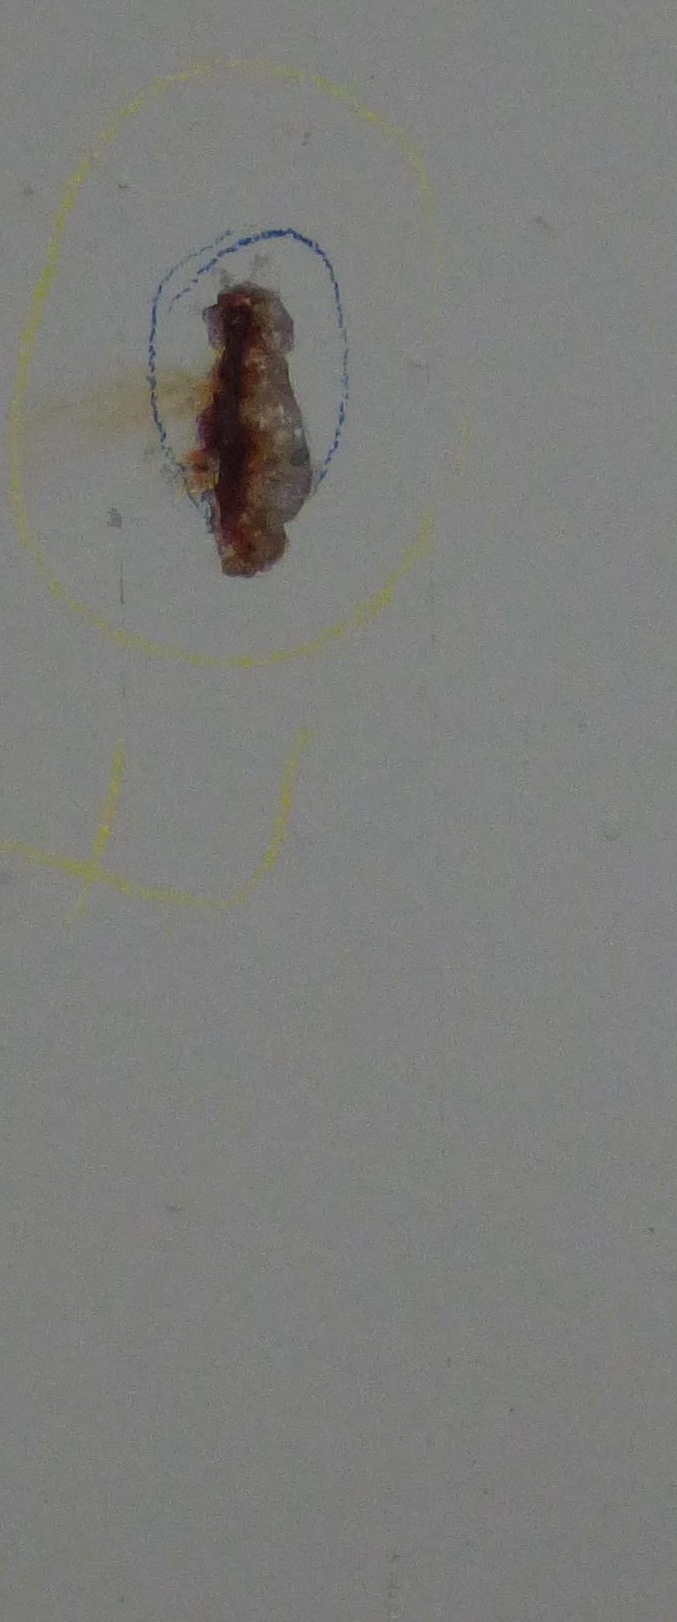Exposed reinforcement: (219, 304, 252, 520)
Spalling: (183, 279, 312, 579)
